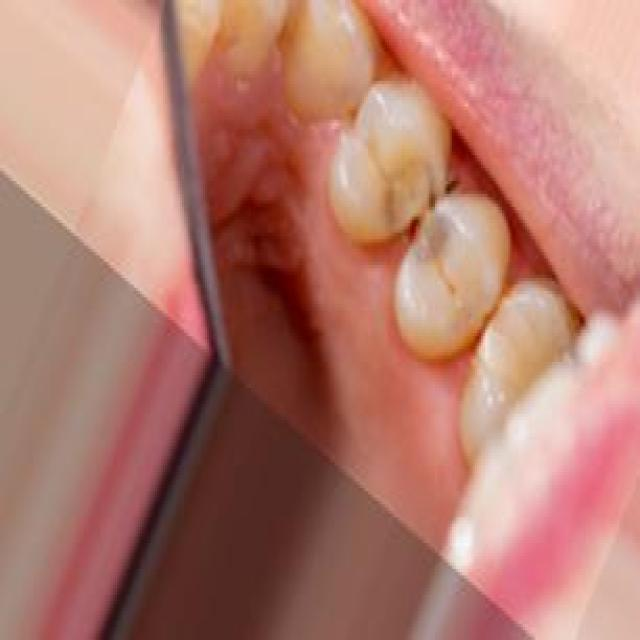caries: (377, 147, 464, 278)
